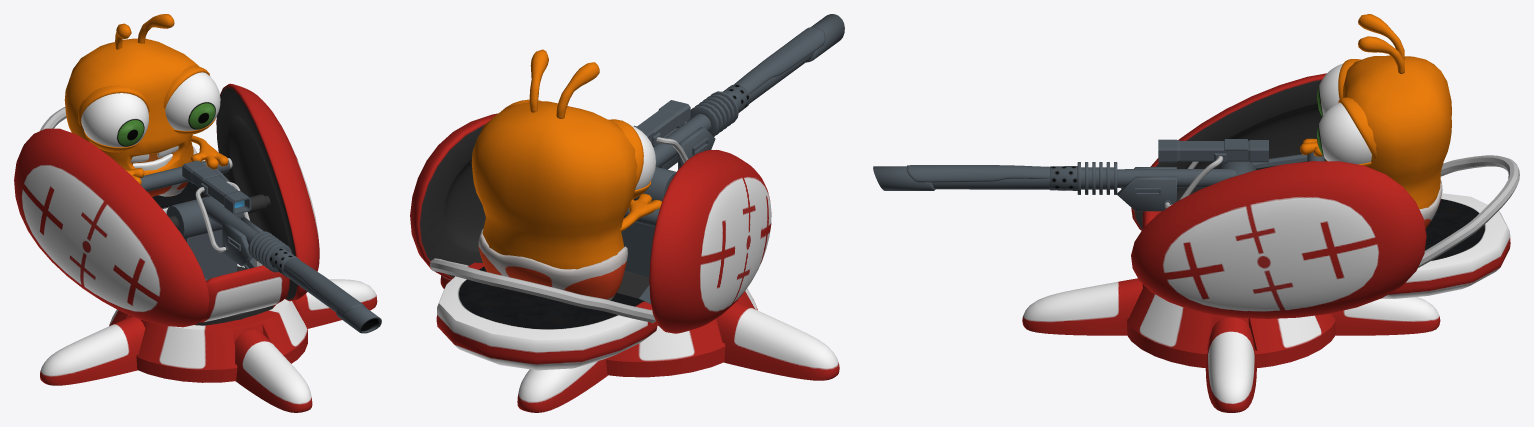
The model's file is sniper_tower.glb.
3 renders of one model, left to right at view 1: azimuth 30°, elevation 25°; view 2: azimuth 150°, elevation 25°; view 3: azimuth 270°, elevation 25°, orthographic. The views are drawn at different scales.
Visible parts, largest first — view 1: Shields Part_8, Starling_11, Weapon Part_9, Base Legs_7, Base Support_5, Base Center_10, Scope_6; view 2: Starling_11, Shields Part_8, Weapon Part_9, Base Legs_7, Base Support_5, Base Center_10, Scope_6; view 3: Shields Part_8, Weapon Part_9, Starling_11, Base Legs_7, Base Support_5, Scope_6.
Boxes of the visible parts, box(x1,y1,x2,y2) form: Shields Part_8: box(14, 83, 319, 327); Starling_11: box(64, 14, 228, 196); Weapon Part_9: box(40, 107, 381, 333); Base Legs_7: box(40, 279, 377, 412); Base Support_5: box(109, 264, 307, 382); Base Center_10: box(166, 196, 272, 325); Scope_6: box(182, 160, 251, 214); Starling_11: box(471, 49, 661, 300); Shields Part_8: box(410, 113, 771, 333); Weapon Part_9: box(430, 14, 844, 370); Base Legs_7: box(440, 275, 839, 412); Base Support_5: box(606, 288, 757, 377); Base Center_10: box(617, 167, 676, 298); Scope_6: box(634, 100, 690, 146); Shields Part_8: box(1131, 73, 1426, 318); Weapon Part_9: box(873, 151, 1519, 299); Starling_11: box(1300, 14, 1451, 228); Base Legs_7: box(1022, 278, 1440, 412); Base Support_5: box(1127, 284, 1335, 367); Scope_6: box(1158, 139, 1268, 163).
Bounding box in the file's own units: 3.94 × 3.12 × 6.1.
3 materials, 2 textured.
